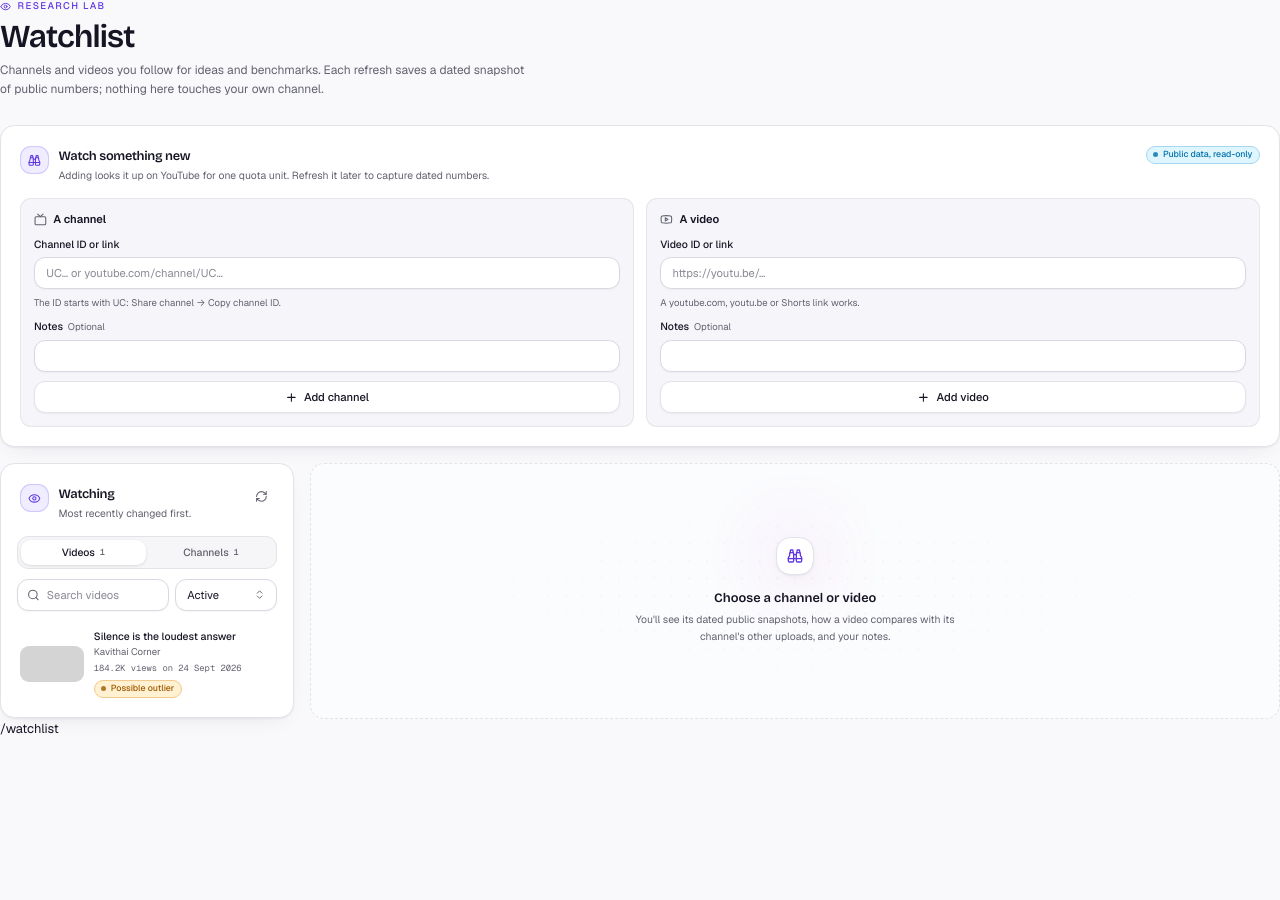
Scenario: WatchlistPage › adds a video from a link and opens it
Type "https://youtu.be/z4HKMfQ3nJc?t=3" into the field labelled "Video ID or link" at (953, 273), box x1=660 y1=257 x2=1246 y2=289
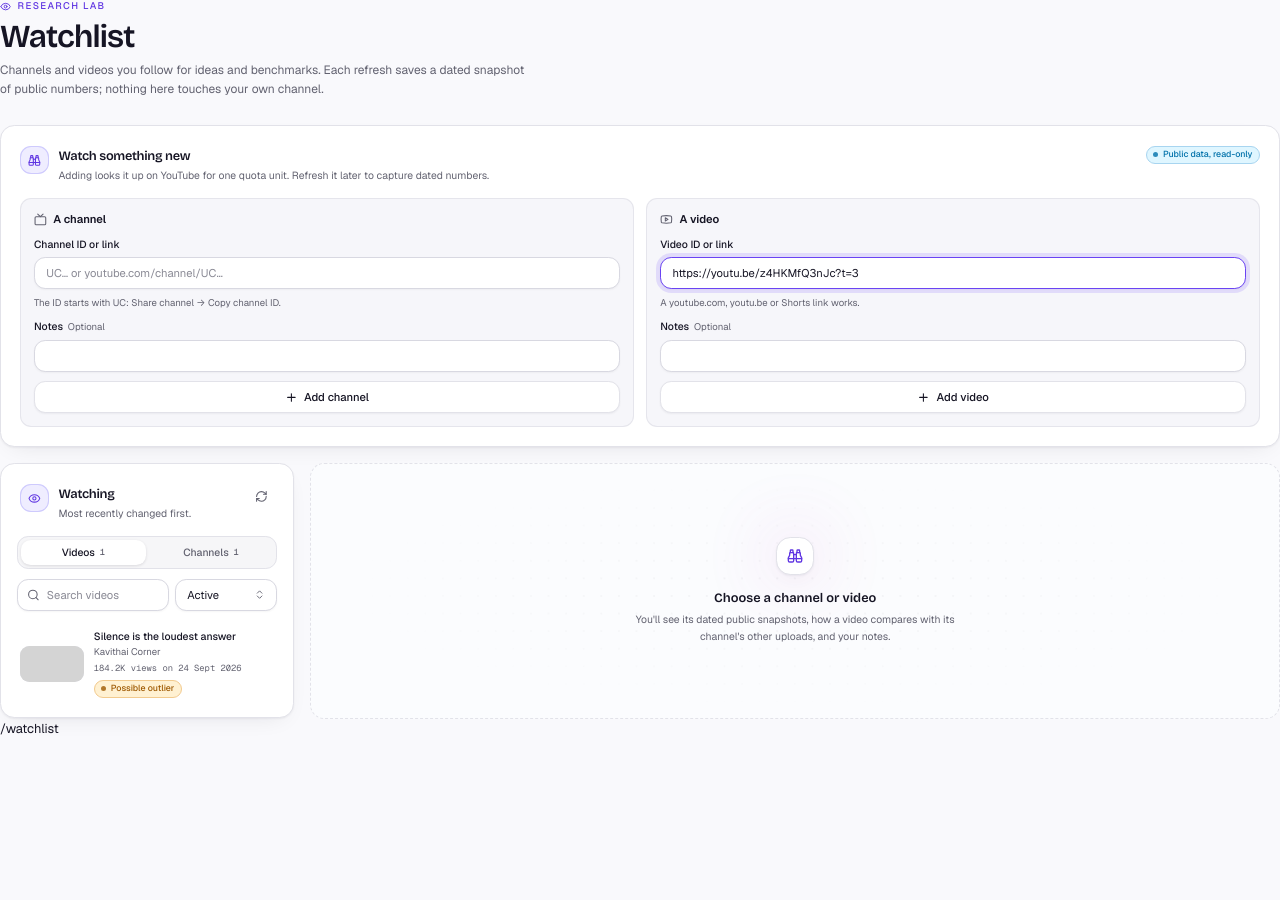
Click the button "Add video" at (953, 397), box x1=660 y1=381 x2=1246 y2=413
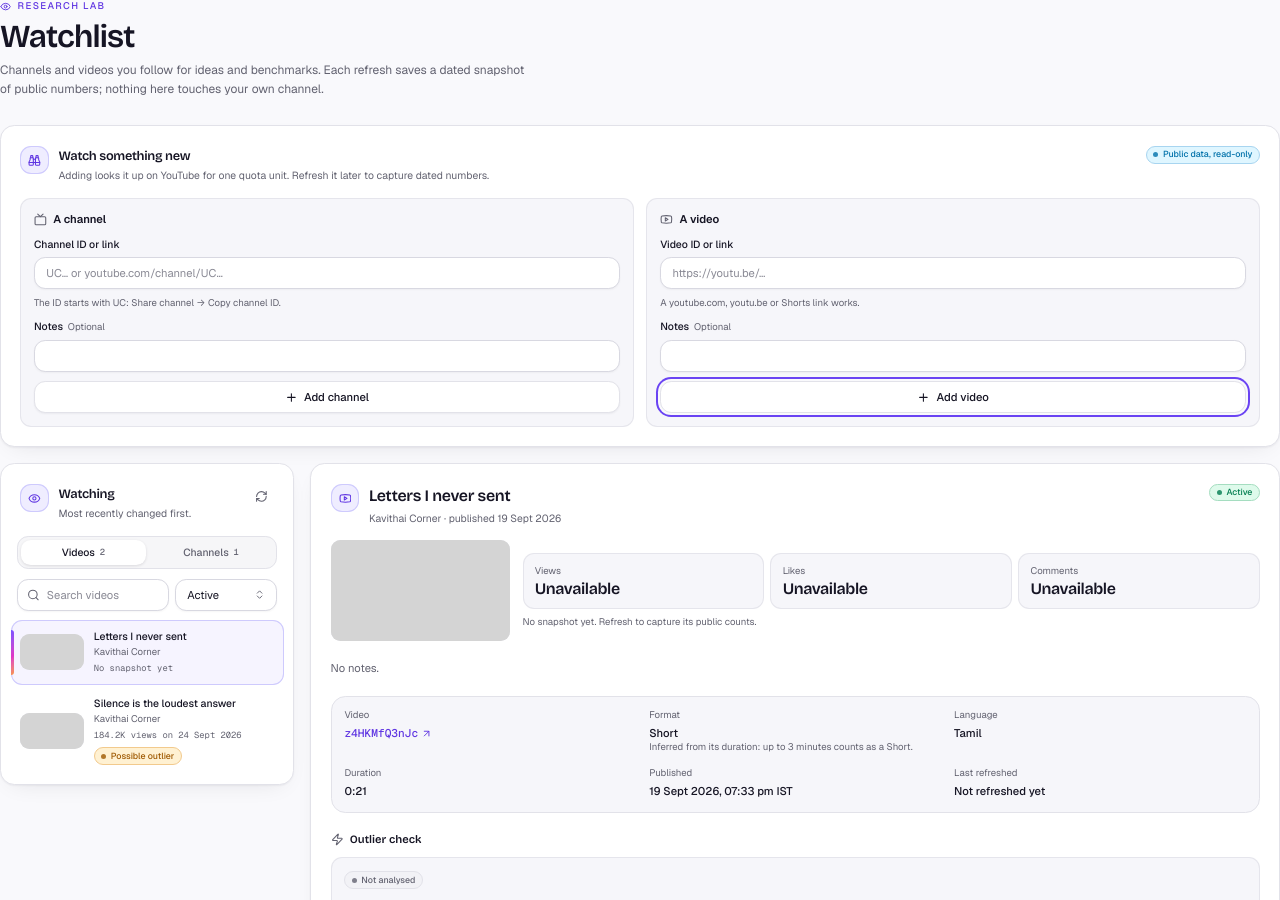
Now the heading "Letters I never sent" is shown, box x1=369 y1=486 x2=510 y2=505
Now the text "No snapshot yet. Refresh to capture its public counts." is shown, box x1=523 y1=615 x2=757 y2=628
